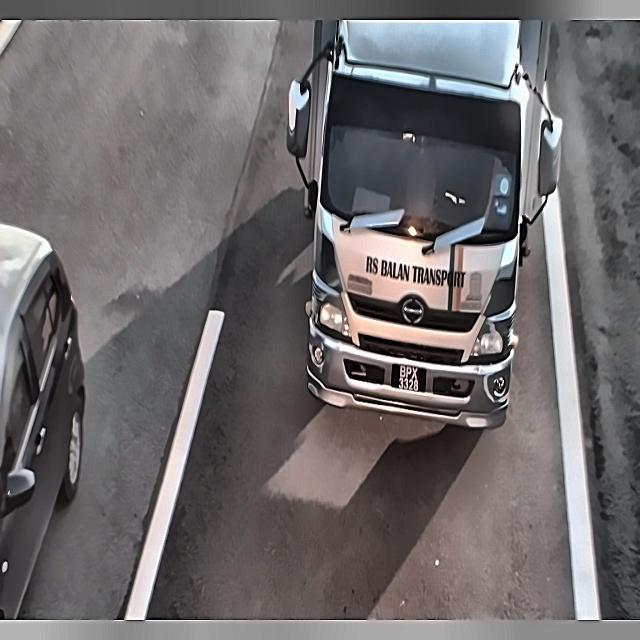car: (384, 353, 437, 405)
